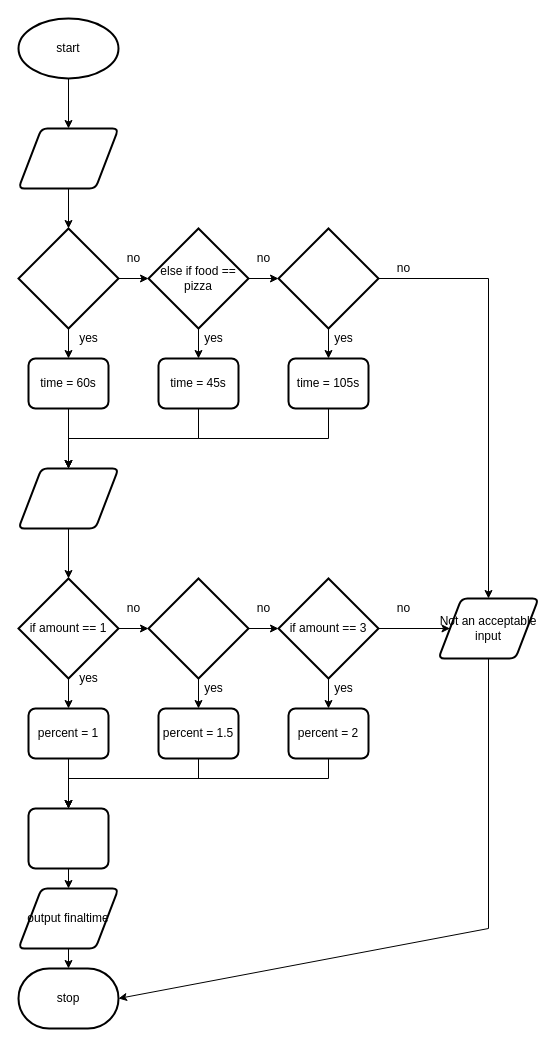
Some shapes in this 556 by 1046 pixel diagram are drawn without their labels. The shapes that lost their labels are listed below. From the top down, each one's centre as x and y in pixels, then its label:
the point at 68,158: Get food
the point at 68,278: if food == sub
the point at 328,278: else if food == soup
the point at 68,498: Get amount of food
the point at 198,628: if amount == 2
the point at 68,838: finaltime = time * percent
